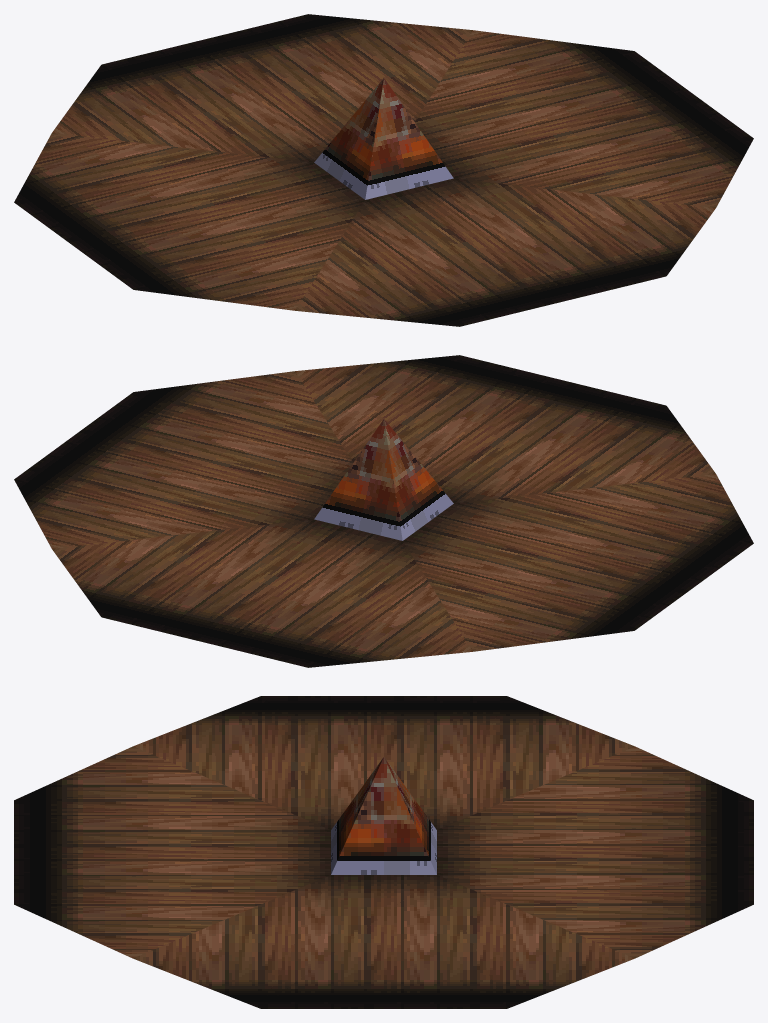
File: th_mery_go.glb
The picture shows the model from 3 angles, top to bottom: view 1: azimuth 30°, elevation 25°; view 2: azimuth 150°, elevation 25°; view 3: azimuth 270°, elevation 25°; orthographic projection. The views are drawn at different scales.
Parts seen in each view (by area): view 1: th_mery_go; view 2: th_mery_go; view 3: th_mery_go.
Boxes of the visible parts, x1=… form: th_mery_go: x1=14, y1=14, x2=753, y2=326; th_mery_go: x1=14, y1=355, x2=753, y2=667; th_mery_go: x1=14, y1=696, x2=753, y2=1008.
Bounding box in the file's own units: 10.94 × 1.56 × 10.94.
2 materials, 2 textured.
